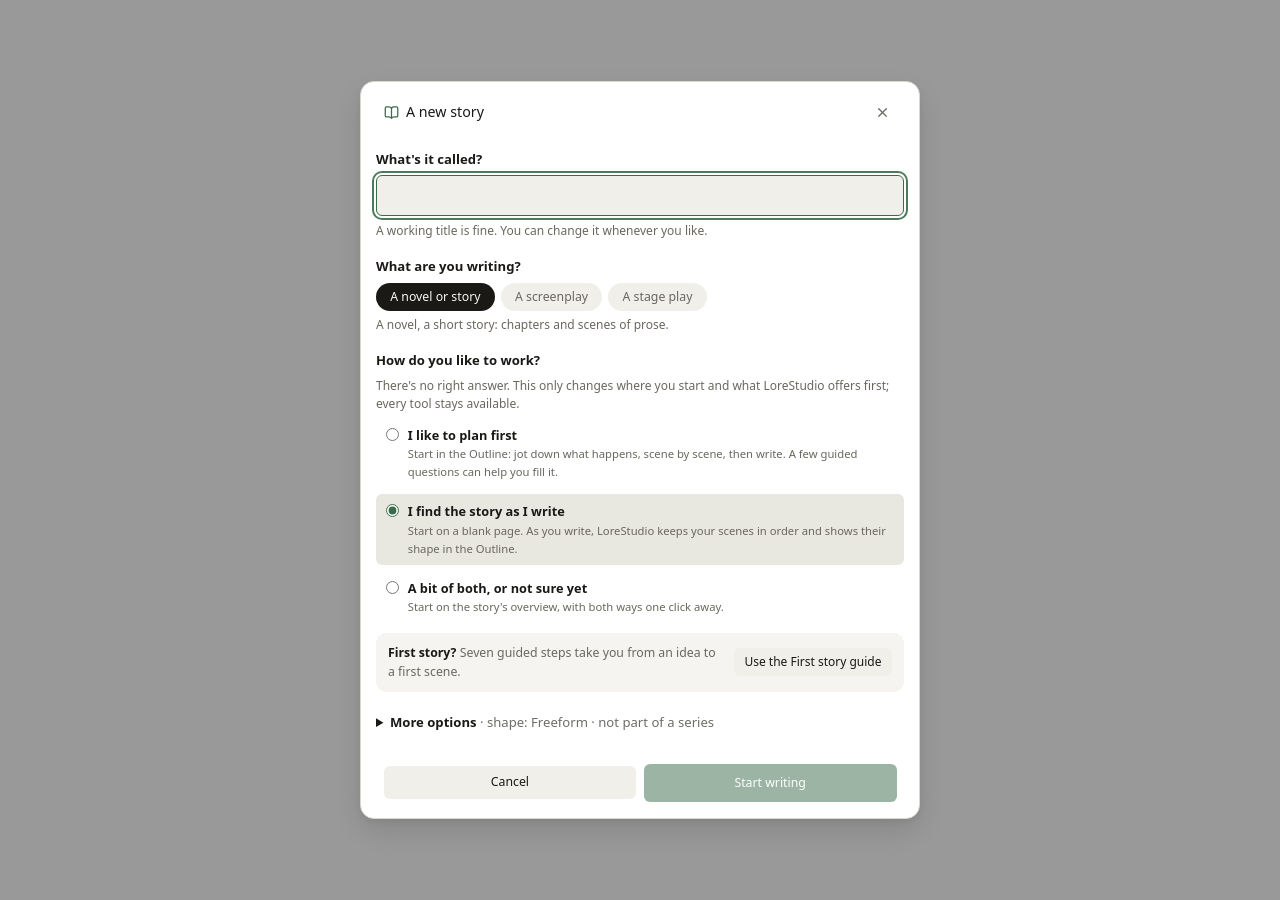
New Story › offers the guide for prose only
Type "Salt" into the field labelled "What's it called?" at (640, 196), box [376,175,904,216]
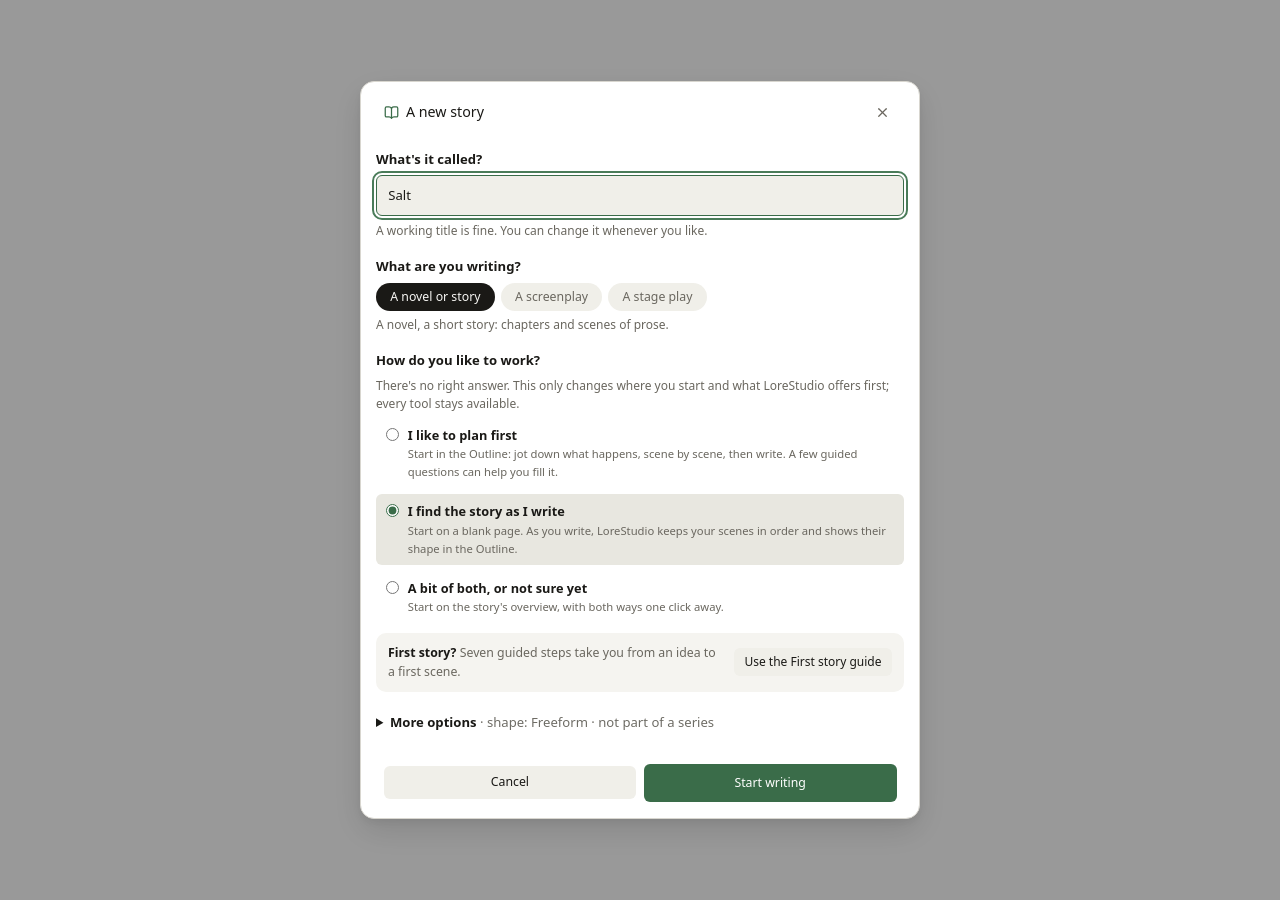
Click the radio button labelled "A screenplay" at (552, 297), box [501,283,602,311]
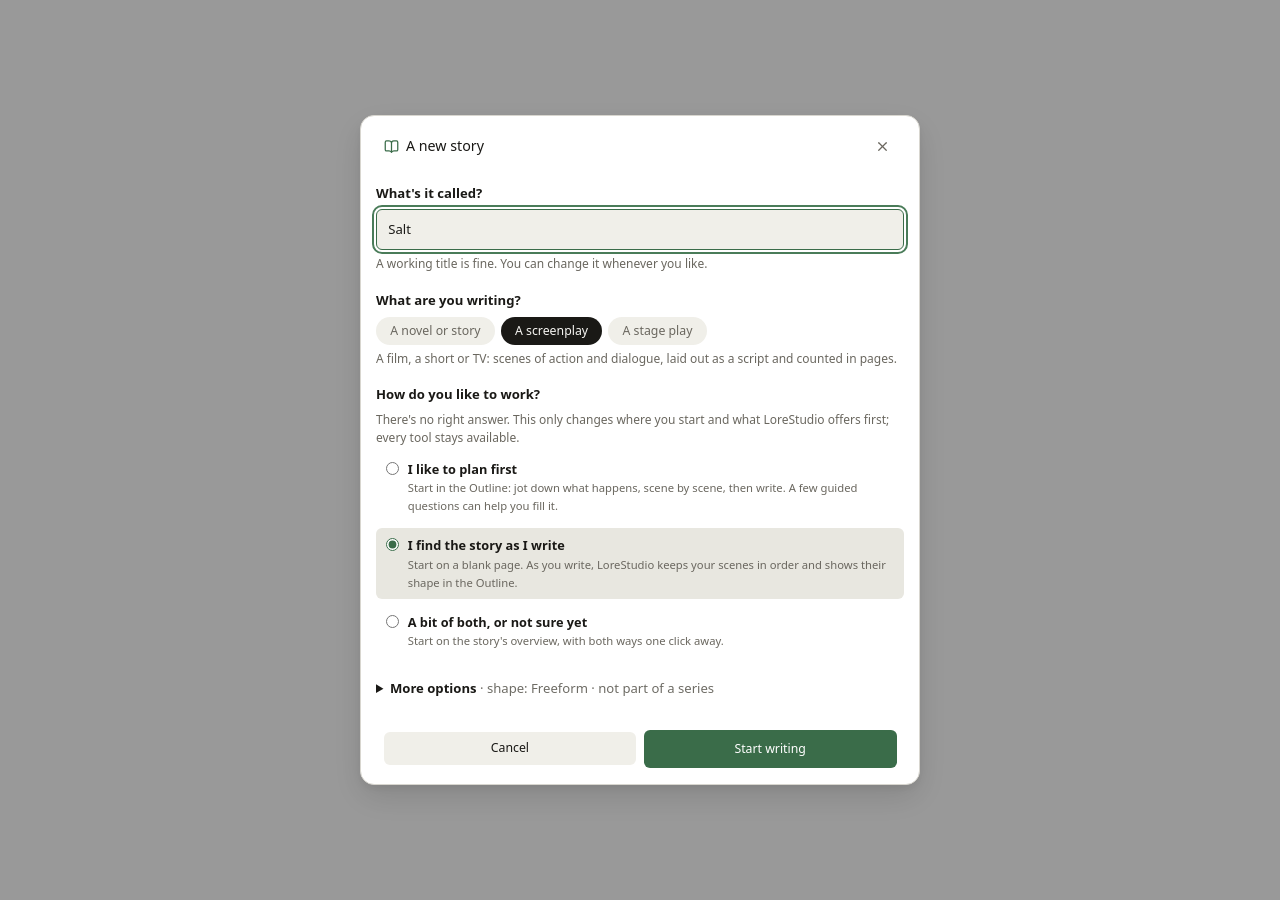
Now the button "Use the First story guide" is gone
